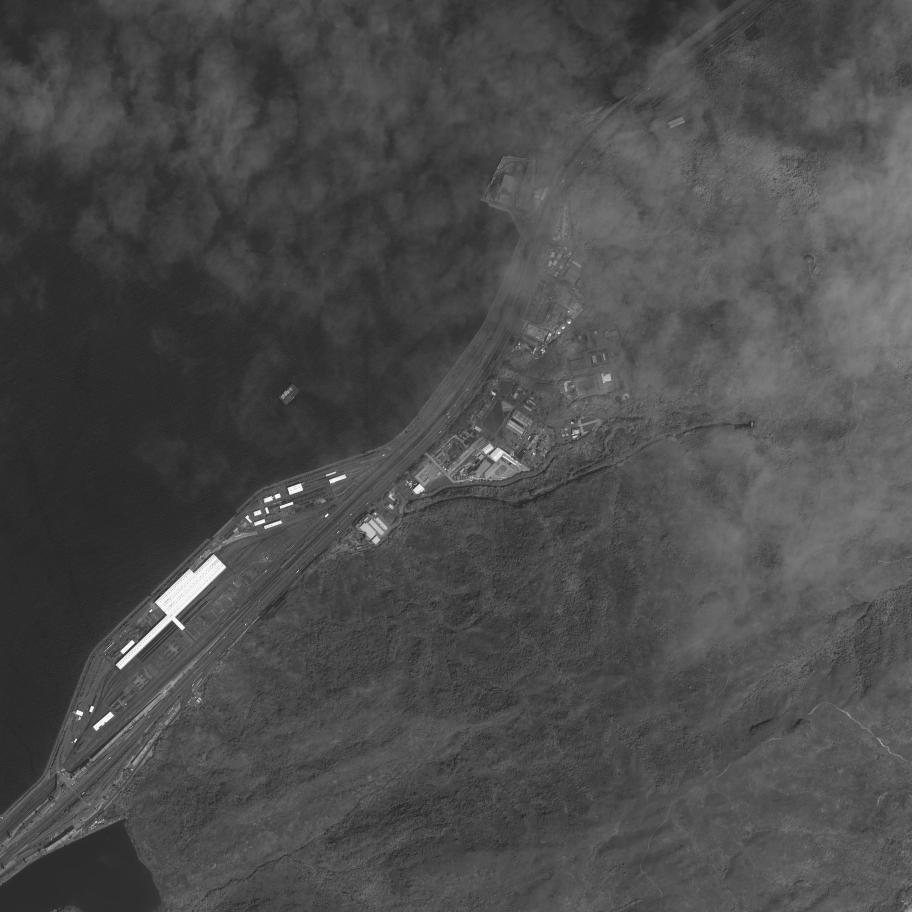ship: (278, 383, 296, 402), (283, 387, 300, 405), (439, 67, 441, 71), (462, 101, 463, 104)
storage-tank: (615, 395, 622, 402), (623, 394, 629, 400), (566, 319, 571, 324), (560, 324, 565, 329), (556, 329, 561, 334), (619, 380, 624, 384), (620, 385, 625, 389)
